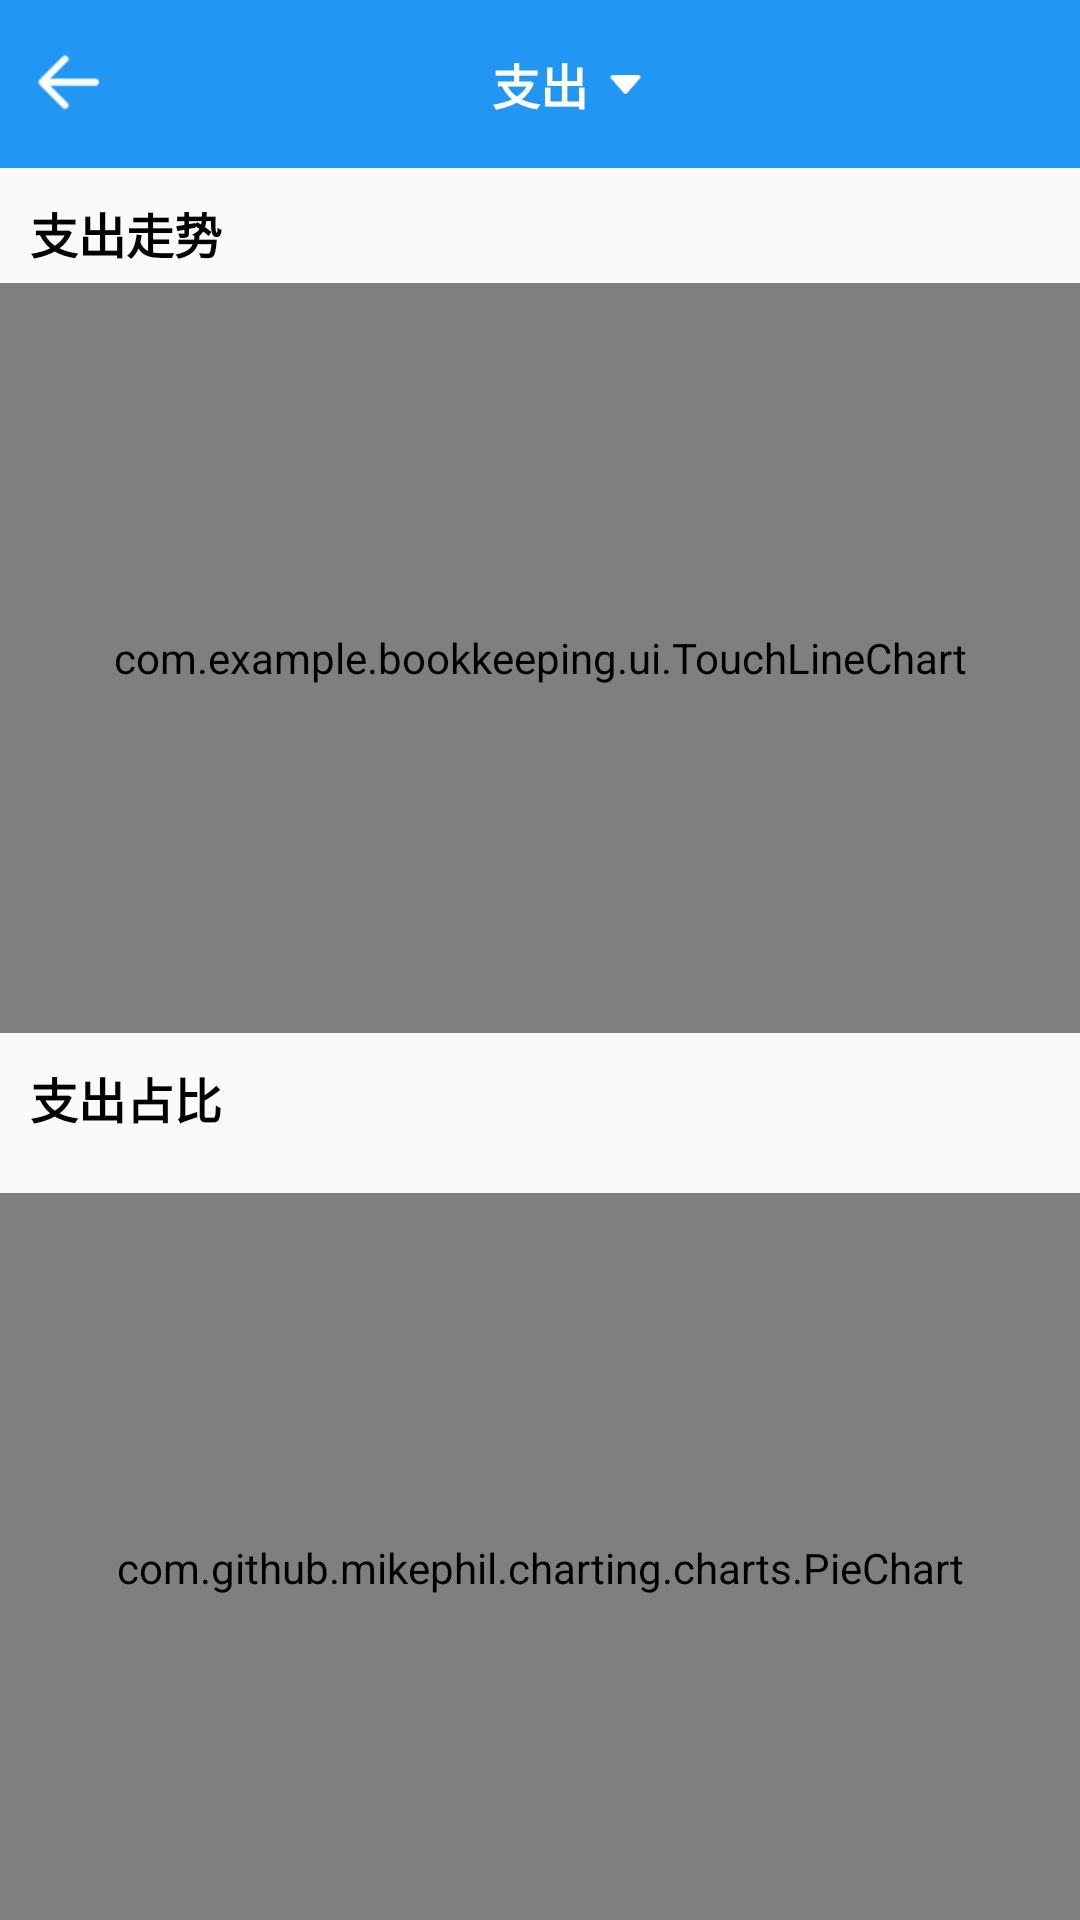

Icons on this 1080w x 1920h Android screen, each with the point to tap as [x,y]:
back: [68,82]
xiala: [625,84]
